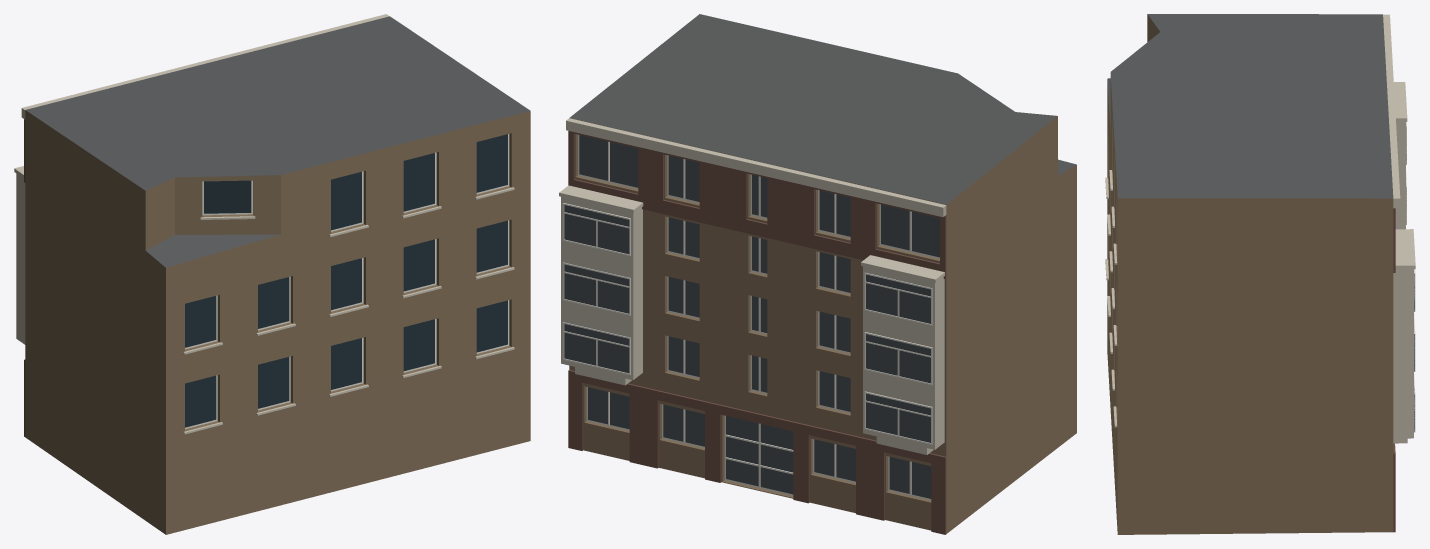
Rendered from recipe-large-haarlemmerweg-93-111773.glb.
3 views of the same model, side by side, from view 1: azimuth 30°, elevation 25°; view 2: azimuth 150°, elevation 25°; view 3: azimuth 270°, elevation 25° (orthographic).
Parts seen in each view (by area): view 1: haarlemmerweg-93-111773; view 2: haarlemmerweg-93-111773; view 3: haarlemmerweg-93-111773.
Boxes of the visible parts, box(x1,y1,x2,y2) form: haarlemmerweg-93-111773: box(14, 14, 530, 534); haarlemmerweg-93-111773: box(559, 14, 1076, 534); haarlemmerweg-93-111773: box(1105, 14, 1415, 534).
Bounding box in the file's own units: 17.77 × 14.94 × 12.47.
